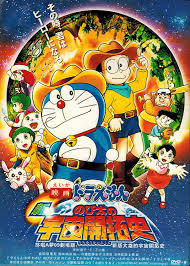doraemon: (41, 82, 119, 193)
